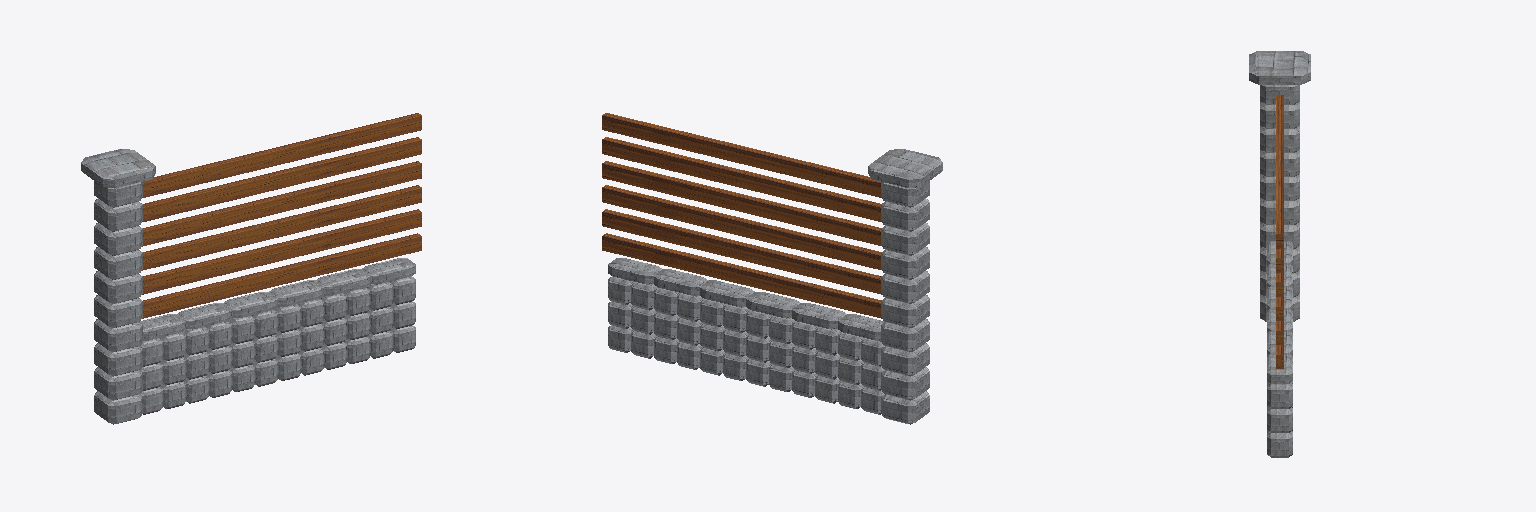
The picture shows the model from 3 angles: view 1: azimuth 30°, elevation 25°; view 2: azimuth 150°, elevation 25°; view 3: azimuth 270°, elevation 25°; orthographic projection.
Visible parts, largest first — view 1: pCube84, pCube86, pCube82, pCube83, pCube85, pCube87, pCube80, pCube75, pCube70, pCube73, pCube77, pCube78 (+28 smaller); view 2: pCube84, pCube82, pCube86, pCube83, pCube85, pCube87, pCube80, pCube75, pCube70, pCube73, pCube77, pCube78 (+28 smaller); view 3: pCube80, pCube87, pCube74, pCube76, pCube78, pCube75, pCube77, pCube79, pCube69, pCube66, pCube68, pCube73 (+1 smaller).
Part boxes in pixels (x1,y1,x2,y2): pCube84: (142,185,421,270); pCube86: (142,137,421,221); pCube82: (142,233,421,318); pCube83: (142,209,421,294); pCube85: (142,161,421,246); pCube87: (142,113,421,197); pCube80: (81,149,155,187); pCube75: (94,271,142,303); pCube70: (94,391,142,424); pCube73: (94,319,142,351); pCube77: (94,223,142,255); pCube78: (94,198,142,231); pCube84: (602,185,880,269); pCube82: (602,233,881,318); pCube86: (602,137,881,221); pCube83: (602,209,881,294); pCube85: (602,161,880,245); pCube87: (602,113,881,197); pCube80: (868,149,942,187); pCube75: (881,271,929,303); pCube70: (881,391,929,424); pCube73: (881,319,929,351); pCube77: (881,223,929,255); pCube78: (881,198,929,231); pCube80: (1249,51,1310,84); pCube87: (1276,95,1283,248); pCube74: (1260,198,1299,224); pCube76: (1260,150,1299,176); pCube78: (1260,102,1299,128); pCube75: (1260,174,1299,200); pCube77: (1260,126,1299,152); pCube79: (1260,85,1299,104); pCube69: (1267,353,1292,383); pCube66: (1267,381,1292,408); pCube68: (1267,431,1292,457); pCube73: (1260,222,1299,249).
Bounding box in the file's own units: 14.25 × 10.55 × 2.3.
Materials: 2 (2 with a texture image).